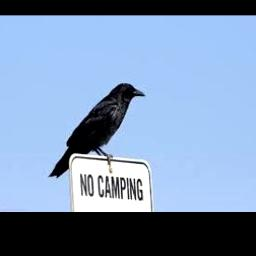Crow: (48, 82, 145, 178)
